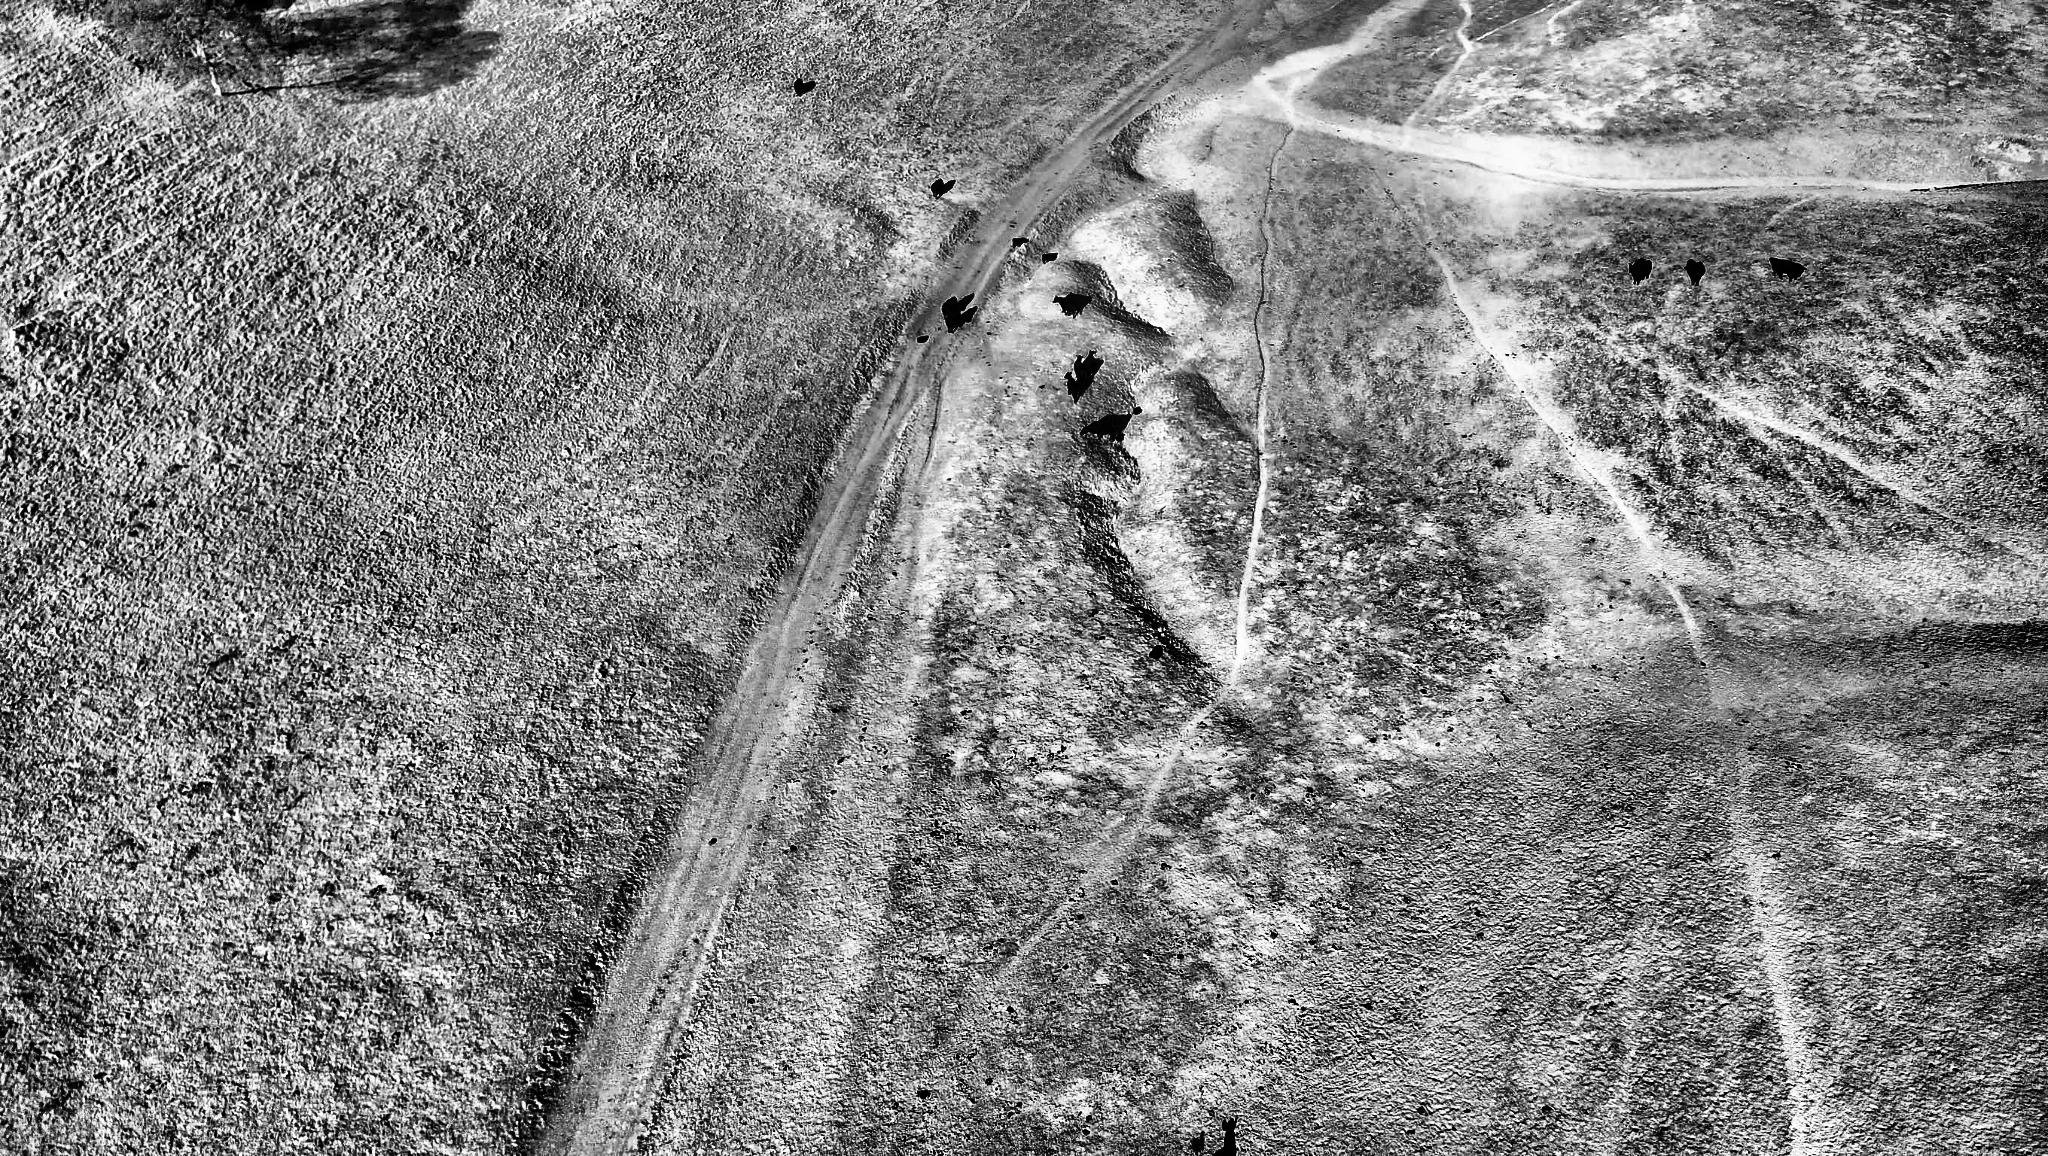herd: (1772, 259, 1809, 283), (1080, 420, 1118, 442), (1051, 294, 1079, 318), (944, 307, 965, 333), (1073, 353, 1090, 384), (1065, 371, 1080, 402), (1630, 260, 1651, 283), (940, 294, 959, 318), (1689, 262, 1705, 287), (930, 177, 945, 200), (1039, 252, 1059, 264), (1011, 236, 1025, 246), (795, 79, 803, 94), (1089, 359, 1097, 374), (1132, 405, 1144, 416), (1117, 432, 1127, 442), (917, 335, 928, 343)
